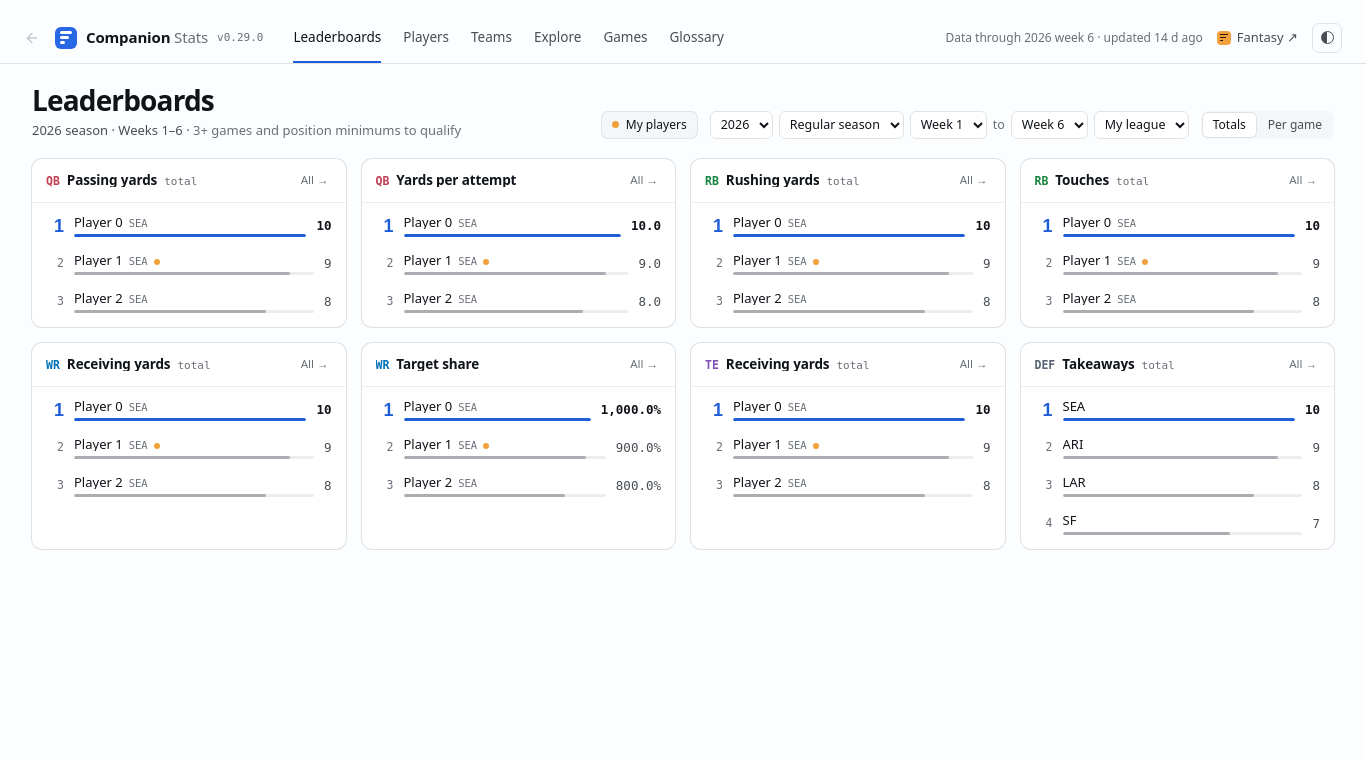
the team dashboard (spec §9.3) › says so when the team has no games in range
The image size is (1366, 760).
Click the button "Teams" at (491, 38), box [471, 12, 512, 63]
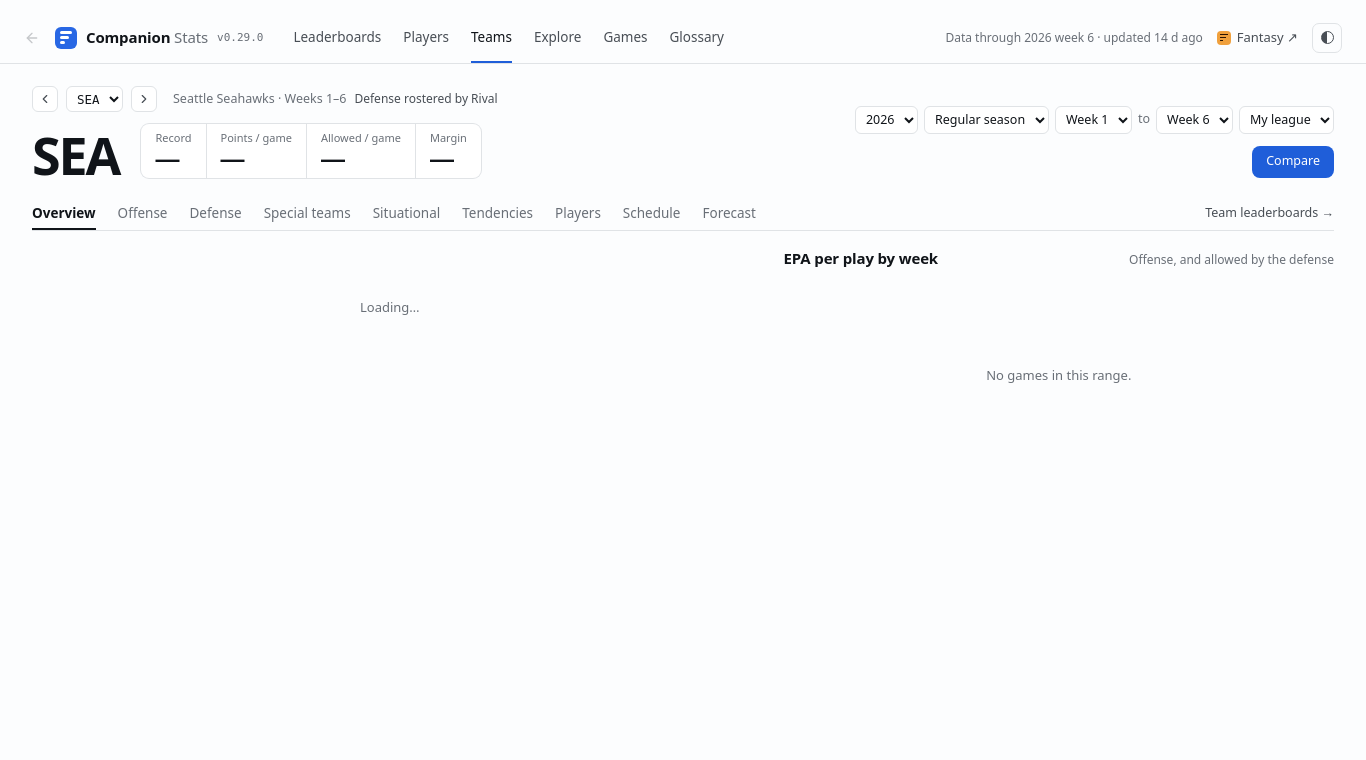
Expected: the heading "SEA" is shown, [32, 133, 119, 178]
Select "Postseason" in the dropdown named "Season type" at (986, 120), box [924, 106, 1049, 134]
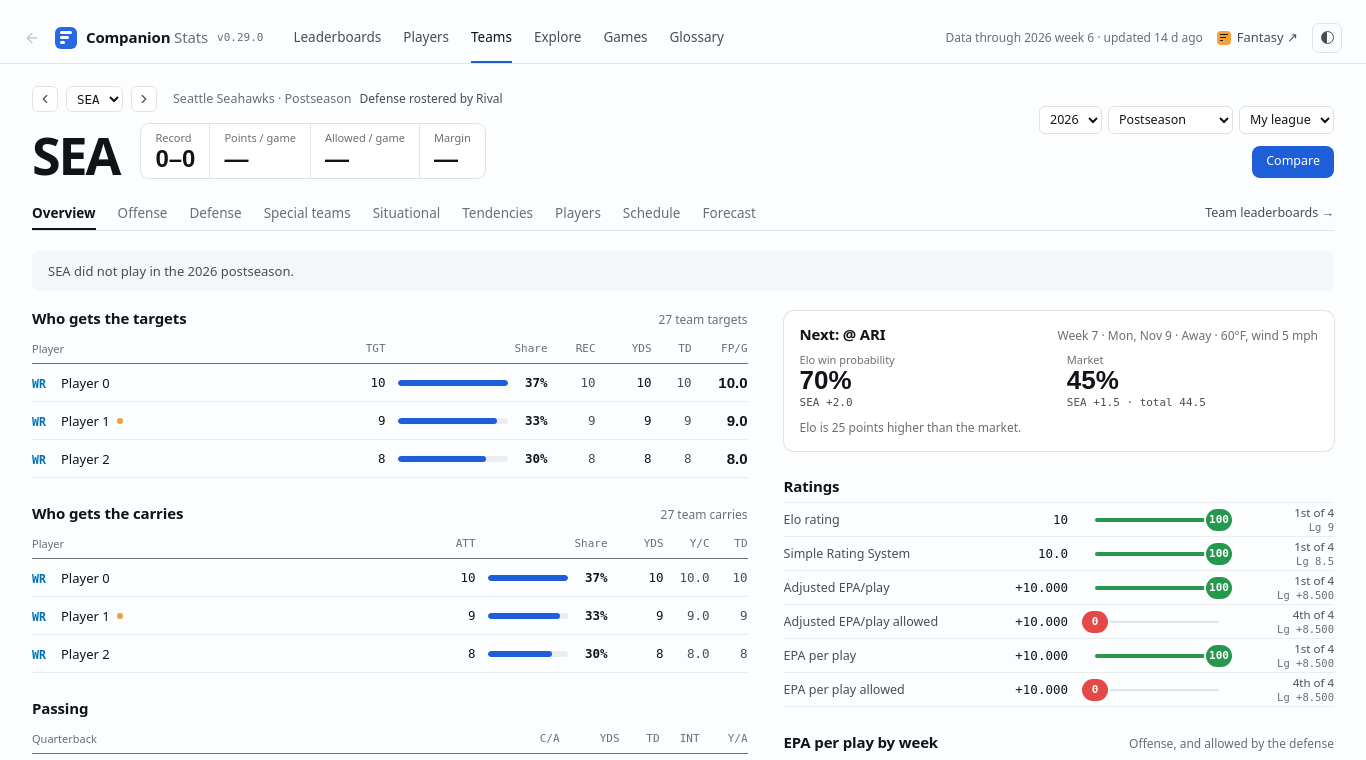
Expected: the text "SEA did not play in the 2026 postseason." is shown, [32, 251, 1334, 292]
